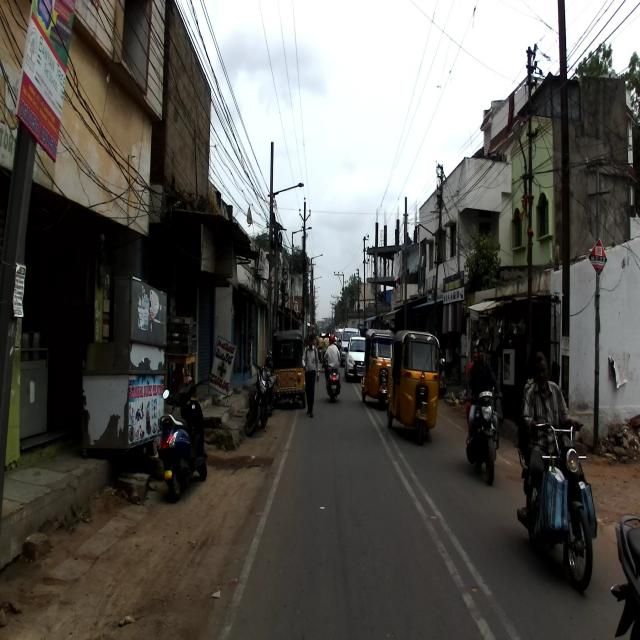autorickshaw: (387, 329, 439, 446)
motorcycle: (610, 512, 640, 640)
motorcycle_Honda: (245, 362, 278, 436)
motorcycle_TVS: (516, 417, 597, 592)
motorcycle_Yamaha: (466, 381, 500, 485)
scooter: (158, 376, 207, 502)
